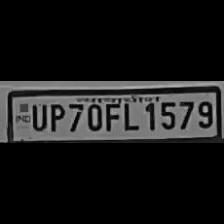0: (83, 100, 103, 132)
1: (140, 98, 156, 132)
5: (156, 97, 178, 130)
7: (64, 100, 84, 132), (176, 98, 192, 130)
9: (193, 97, 213, 128)
F: (103, 100, 120, 132)
L: (120, 98, 140, 132)
P: (46, 101, 66, 133)
U: (27, 100, 47, 132)
